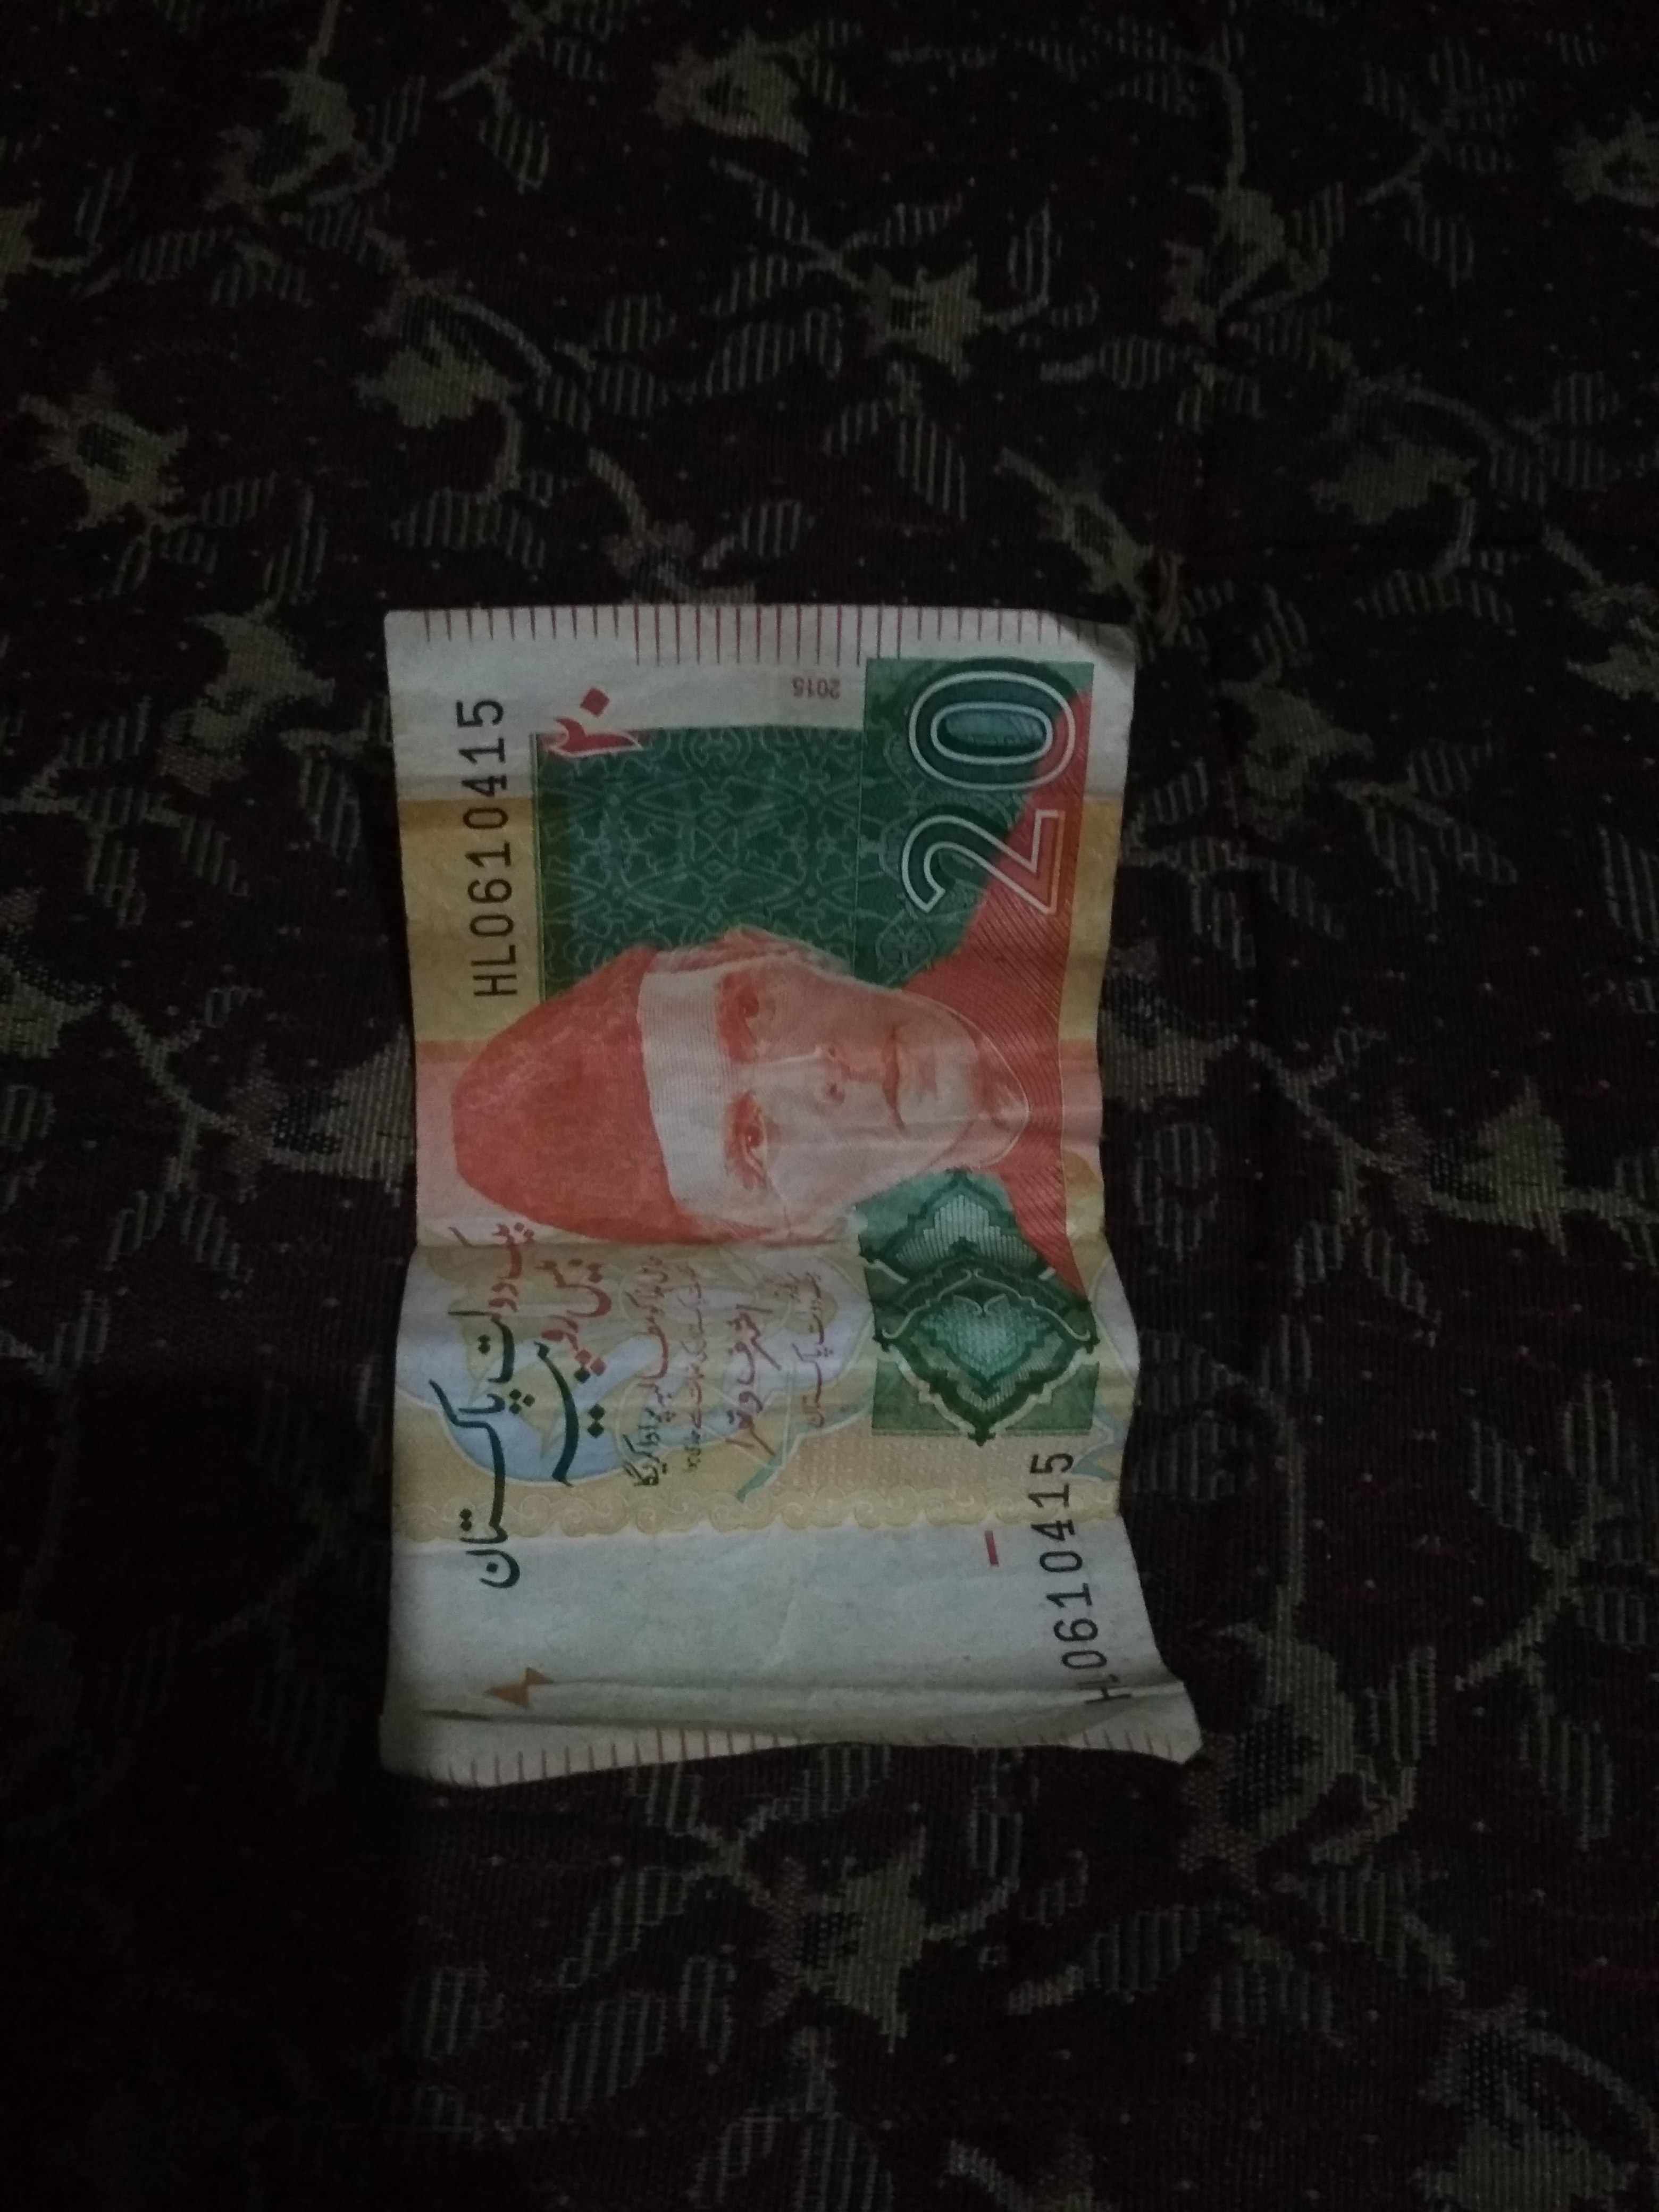20 rupee: (298, 495, 1234, 1911)
